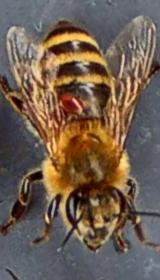varroa_mite: (52, 83, 90, 122)
